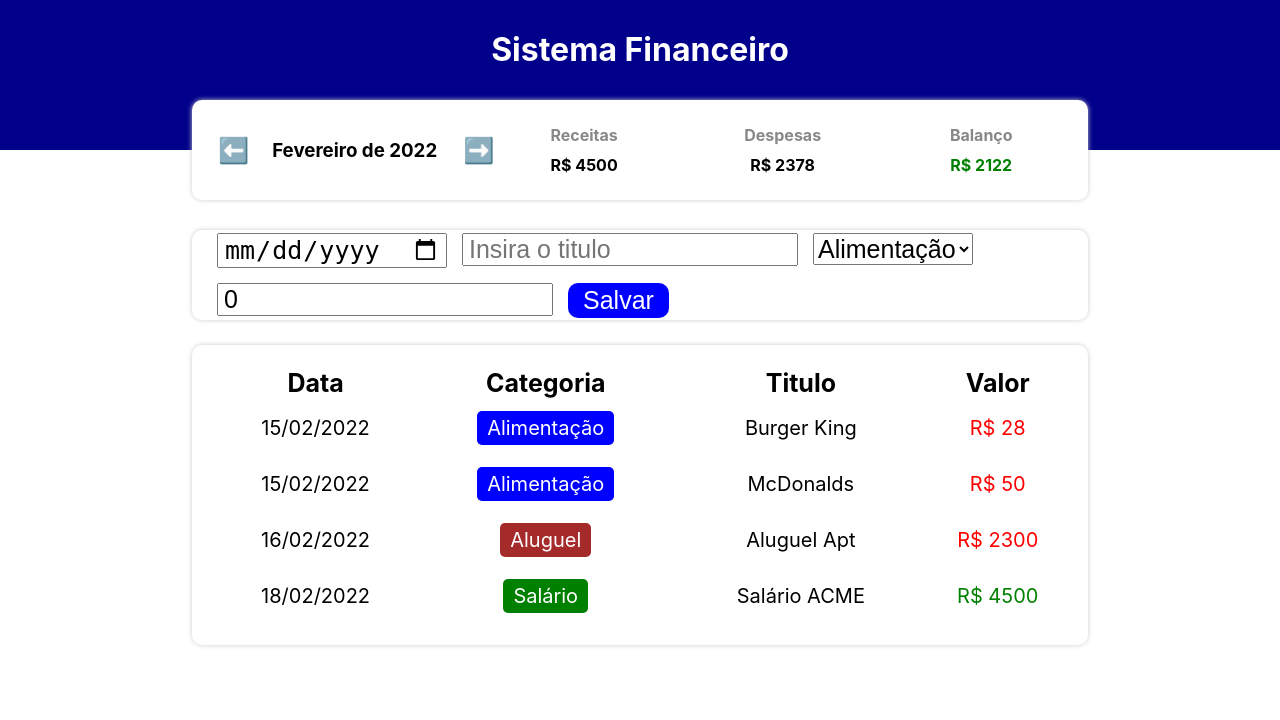
Scenario: testing add area › testing date required field
Type "teste" into the field with placeholder "Insira o titulo" at (630, 249), box x1=462 y1=233 x2=798 y2=266
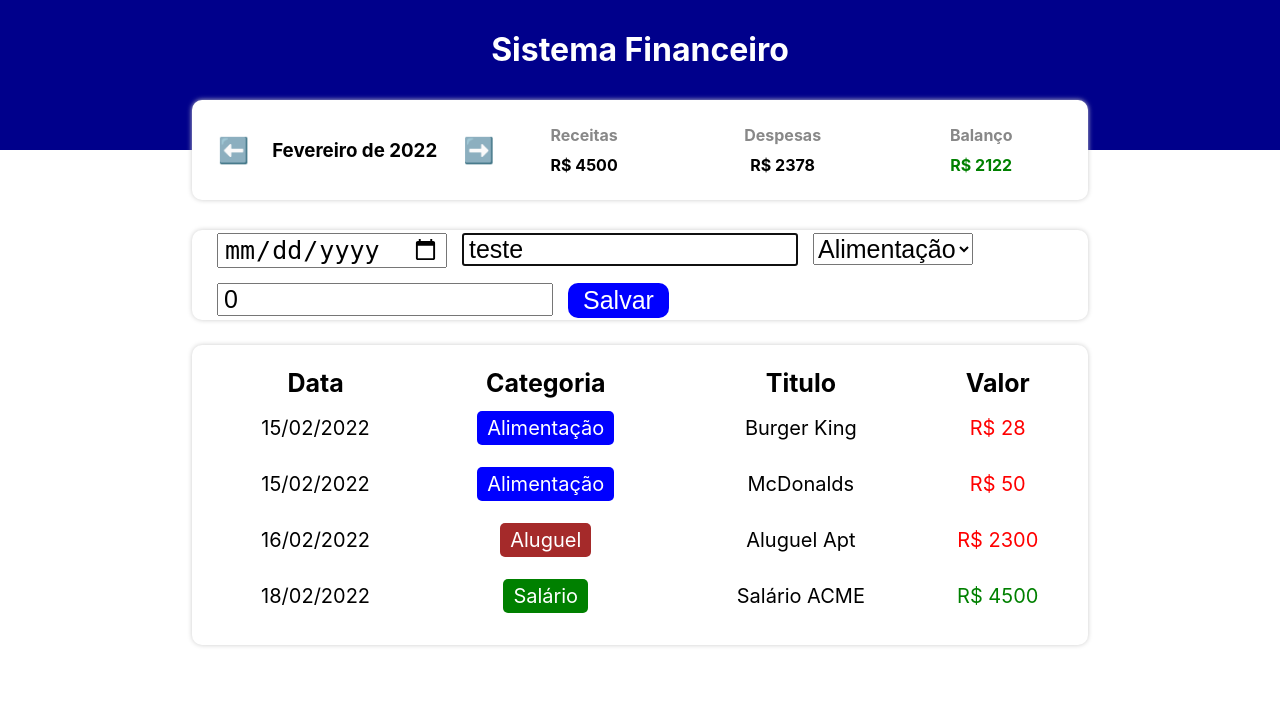
Type "1000" into the 2nd field showing "0" at (385, 299), box x1=217 y1=283 x2=553 y2=316
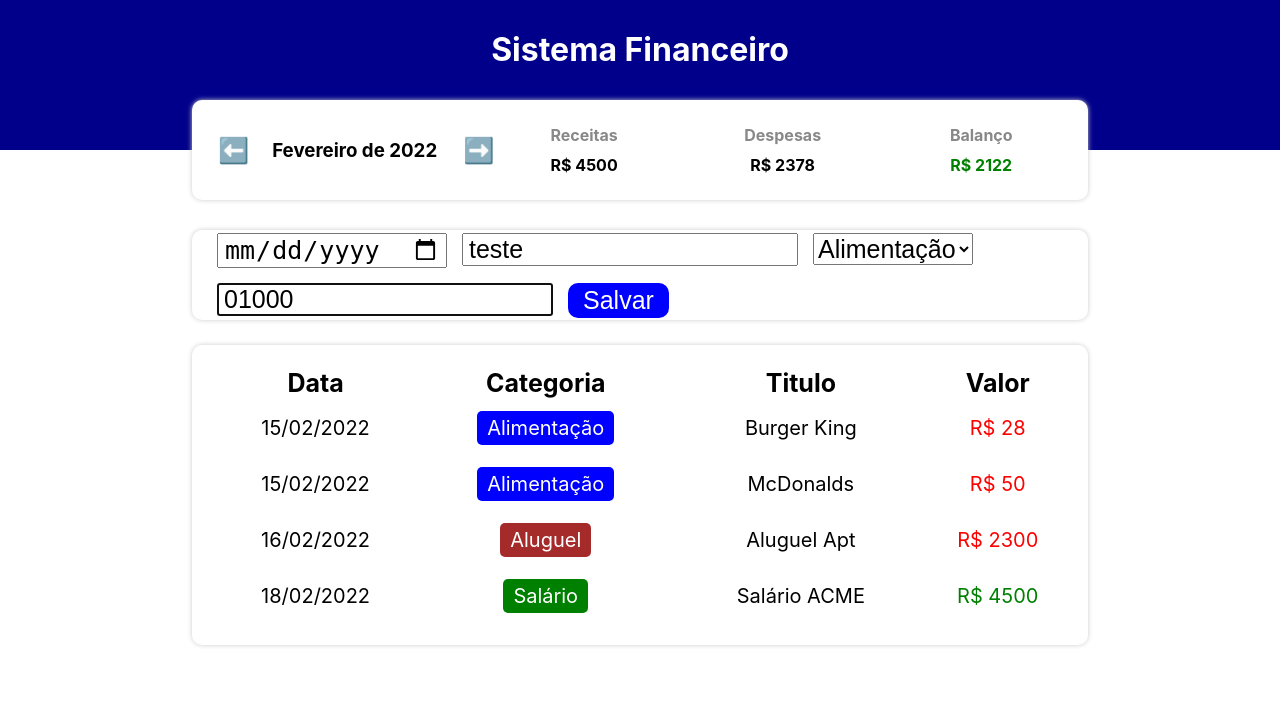
Click the button "Salvar" at (618, 300), box x1=568 y1=283 x2=669 y2=318
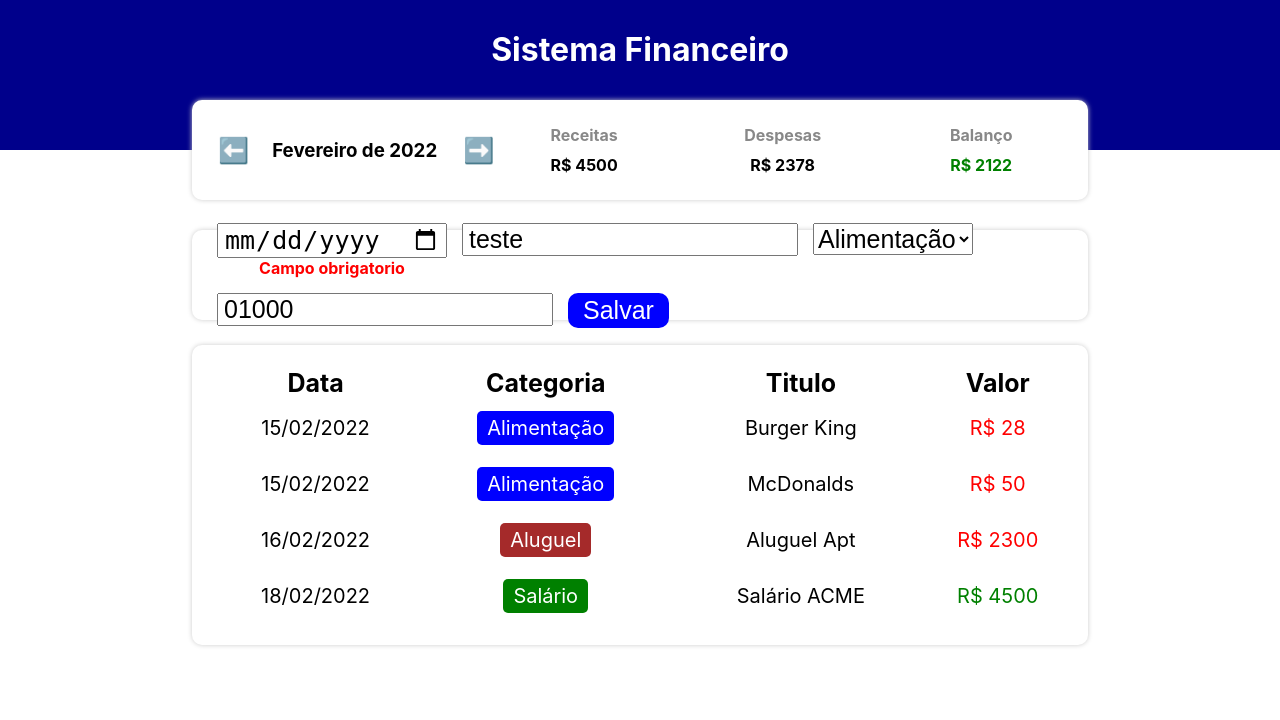
Result: the text "Campo obrigatorio" is shown at x1=259 y1=258 x2=405 y2=278
